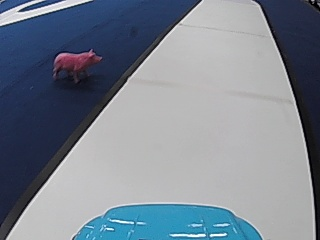pig: (51, 46, 101, 83)
